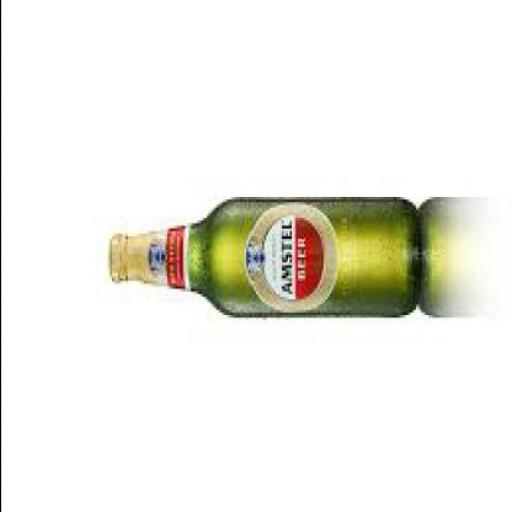glass: (112, 199, 417, 320)
metal: (106, 242, 119, 284)
